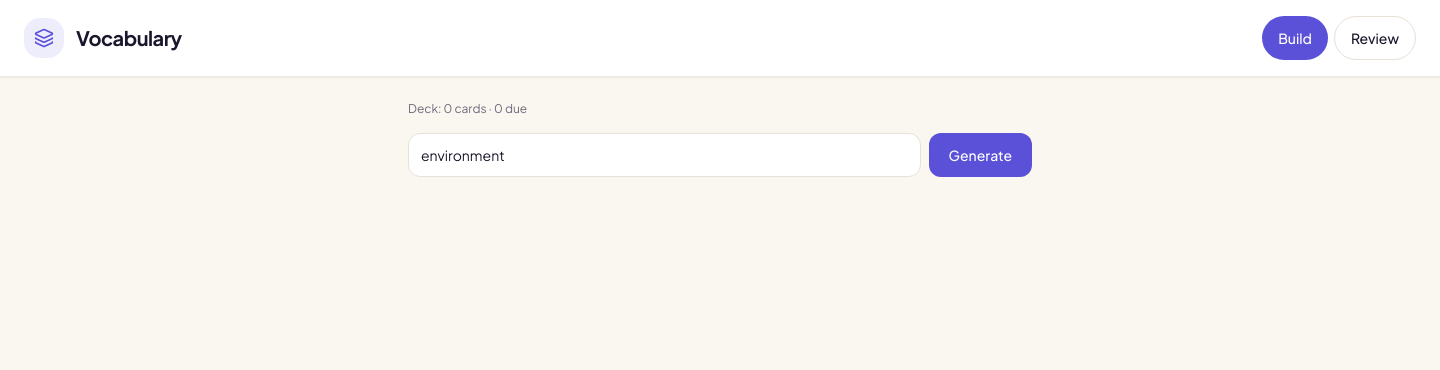
Test: Vocab › generates a vocab list in Build mode
The width and height of the screenshot is (1440, 370).
Click the button "Generate" at {"x": 980, "y": 155}, box 928,133 -> 1032,177
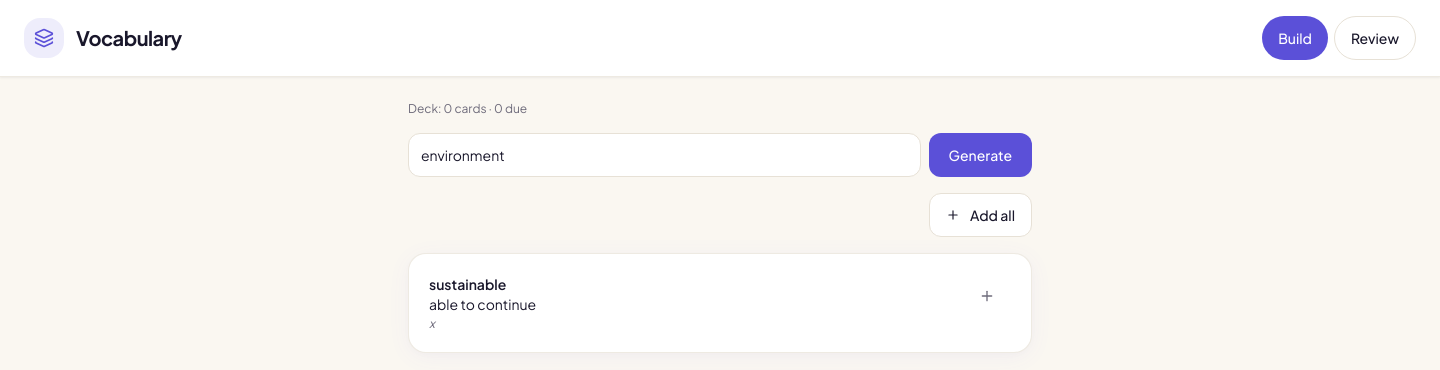
Result: the text "sustainable" is shown at 429,275 -> 506,293
